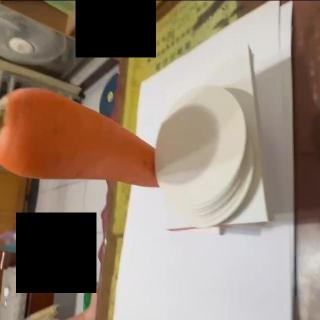carrot: (0, 85, 162, 188)
